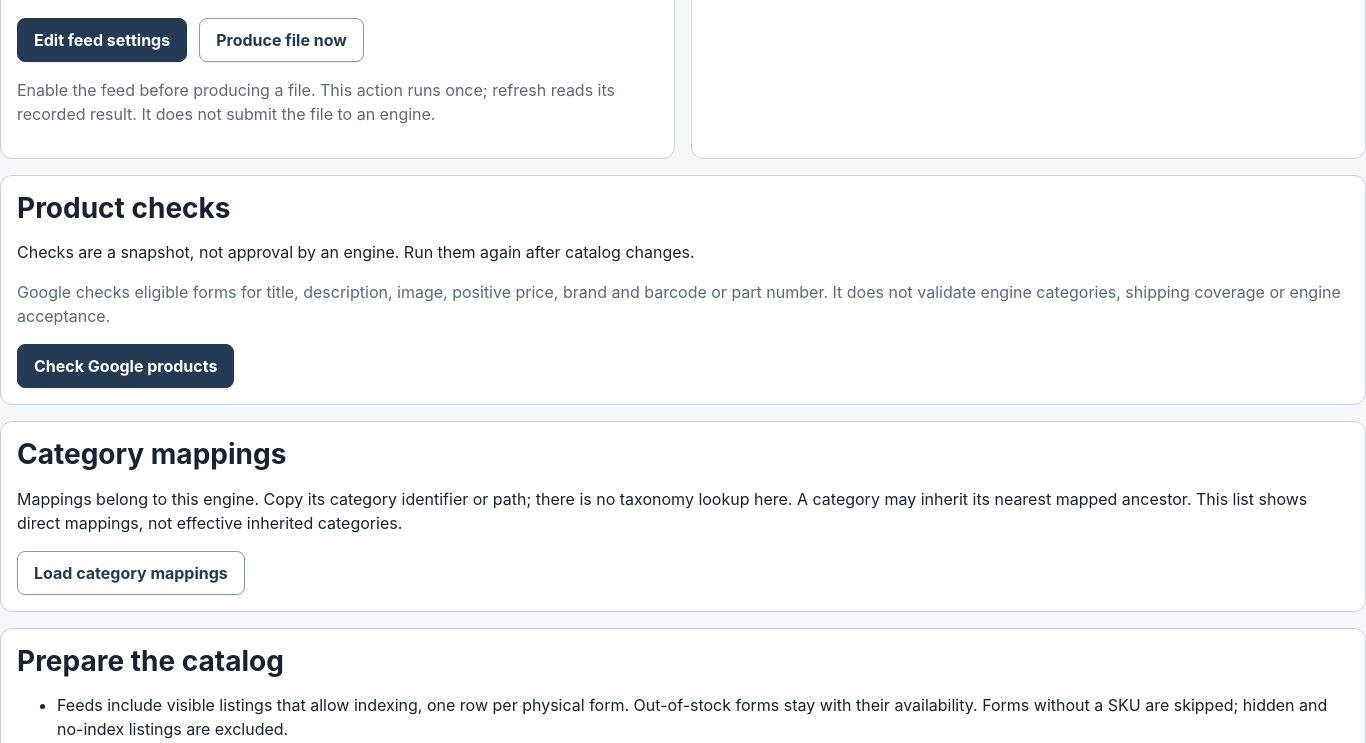
Test: applies catalog permissions for Owner while retaining check reads
(page scrolled)
Click the button "Check Google products" at (126, 366), box [17,344,234,388]
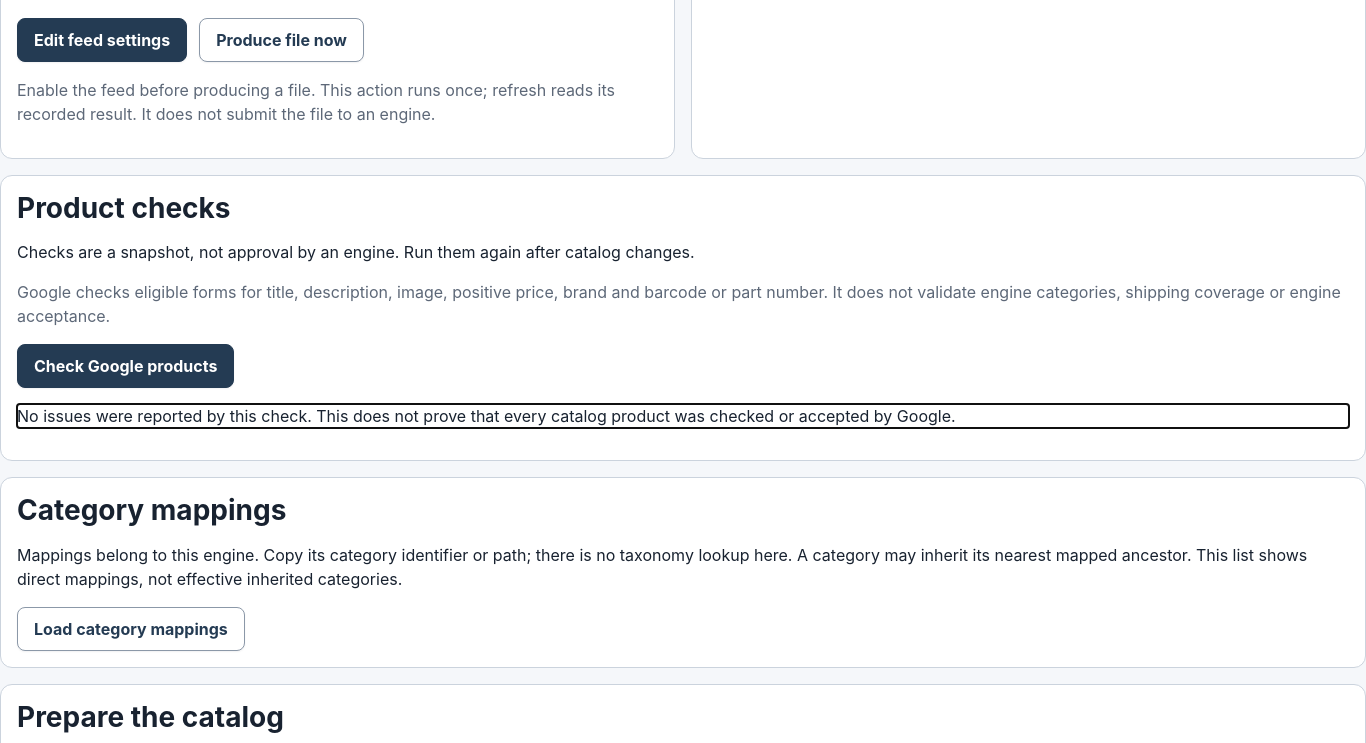
Check: the text "No issues were reported" is shown, box [17,406,956,426]
